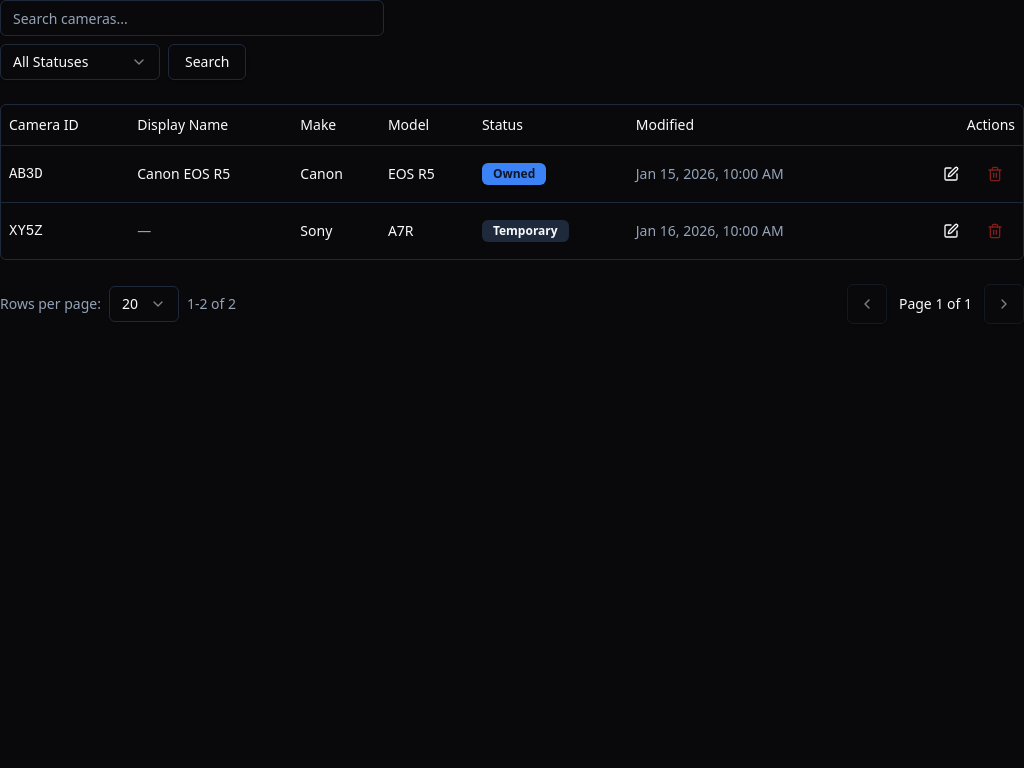
Test case: CamerasTab › opens edit dialog when edit button is clicked
The width and height of the screenshot is (1024, 768).
Click the button titled "Edit camera" in the row of "AB3D". click: (951, 174)
box: [931, 154, 971, 194]
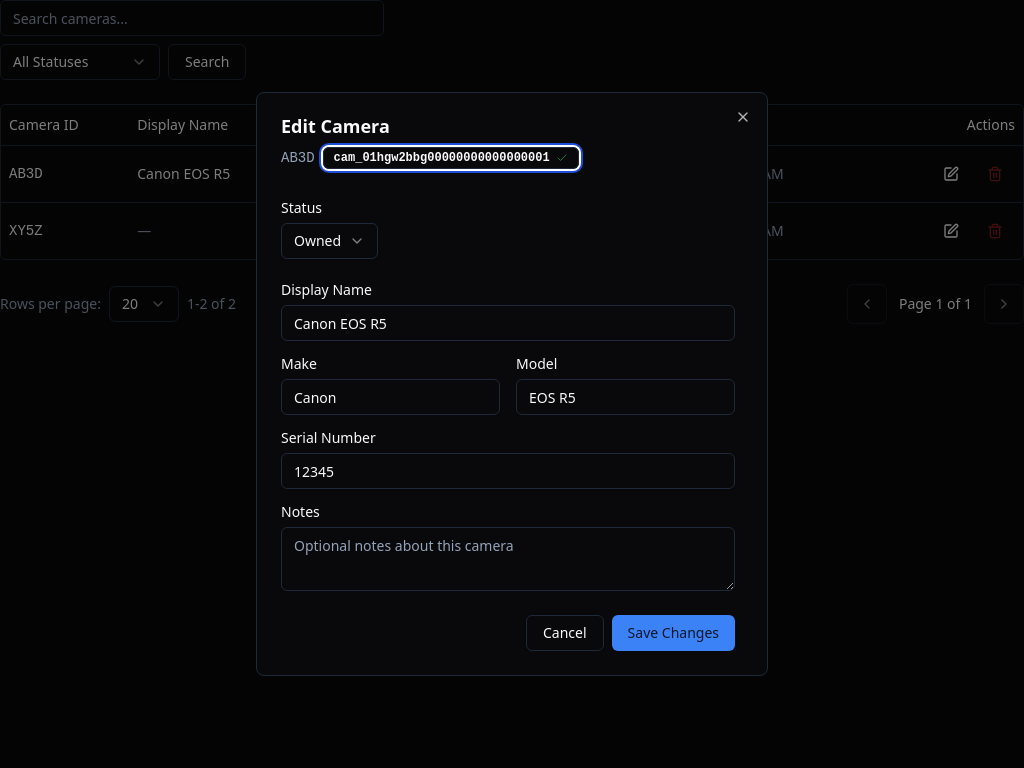
Check: the heading "Edit Camera" is shown, box [281, 114, 390, 138]
